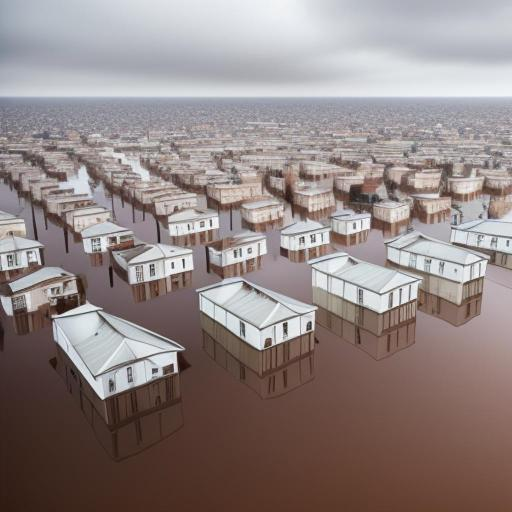flood: (0, 179, 512, 512), (72, 168, 180, 244), (190, 208, 265, 244), (441, 187, 512, 222), (362, 178, 438, 201), (112, 152, 150, 180)
house: (49, 301, 191, 403), (197, 276, 322, 353), (395, 230, 491, 308), (308, 251, 424, 315), (4, 261, 77, 314), (114, 242, 196, 284), (457, 214, 512, 265), (0, 234, 44, 292), (208, 227, 268, 269), (170, 206, 221, 246), (279, 215, 329, 253), (80, 220, 135, 254), (206, 178, 263, 210), (243, 196, 287, 233), (42, 188, 91, 218), (330, 208, 372, 242), (152, 190, 198, 218), (293, 188, 336, 214), (370, 200, 412, 226), (415, 197, 453, 225), (24, 175, 59, 203)
